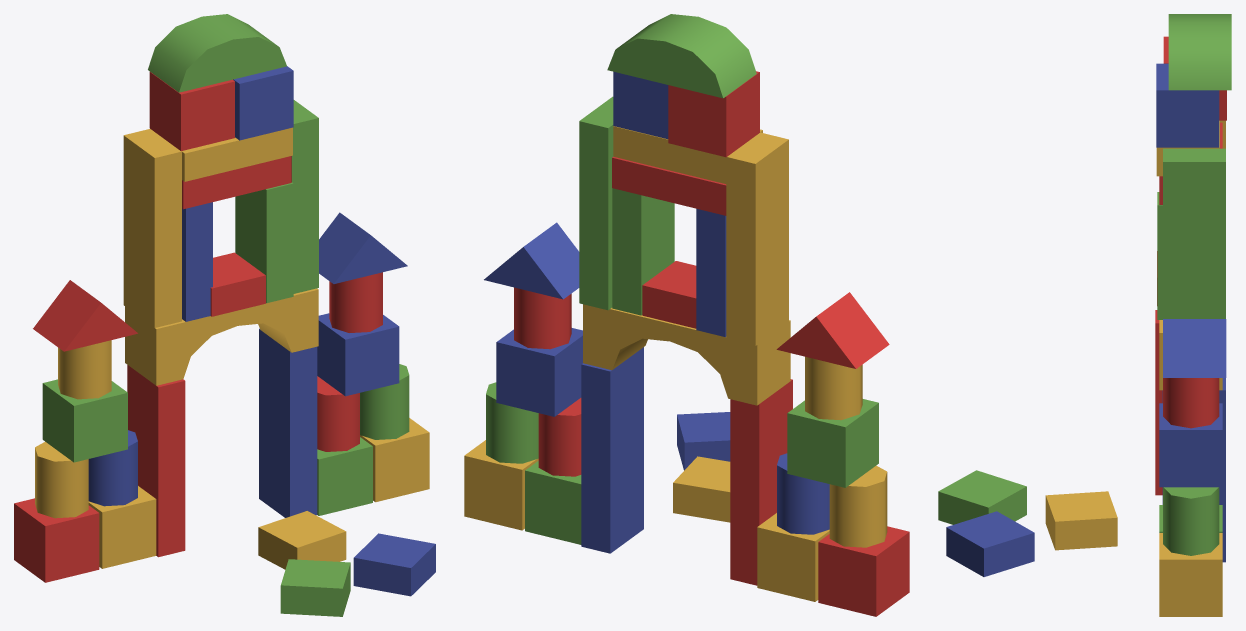
Rendered from ToyBlockCastle_01.fbx.
The picture shows the model from 3 angles, left to right: view 1: azimuth 30°, elevation 25°; view 2: azimuth 150°, elevation 25°; view 3: azimuth 270°, elevation 25°; orthographic projection. The views are drawn at different scales.
Visible parts, largest first — view 1: Rectangle_Long_03, Rectangle_Long_02, Arch_01, Rectangle_Long_01, SemiCircle_01, Cube_01, Rectangle_Middle_02, Cube_03, Cube_06, Cube_07, Rectangle_Long_04, Rectangle_Short_03 (+18 smaller); view 2: Rectangle_Long_03, Rectangle_Long_02, Arch_01, Rectangle_Long_01, SemiCircle_01, Rectangle_Long_04, Cube_01, Cube_03, Rectangle_Middle_02, Cube_06, Cube_07, Triangle_01 (+17 smaller); view 3: Rectangle_Long_04, SemiCircle_01, Rectangle_Short_03, Cube_05, Cube_06, Cube_08, Rectangle_Short_02, Triangle_02, Cylinder_05, Rectangle_Short_04, Cylinder_06, Rectangle_Long_01 (+3 smaller).
Part boxes in pixels (x1,y1,x2,y2): Rectangle_Long_03: [123, 129, 181, 327]; Rectangle_Long_02: [259, 328, 317, 517]; Arch_01: [125, 288, 318, 385]; Rectangle_Long_01: [127, 365, 185, 557]; SemiCircle_01: [148, 14, 286, 92]; Cube_01: [14, 498, 99, 582]; Rectangle_Middle_02: [235, 182, 293, 303]; Cube_03: [42, 379, 127, 462]; Cube_06: [317, 313, 399, 396]; Cube_07: [149, 72, 234, 151]; Rectangle_Long_04: [291, 100, 318, 293]; Rectangle_Short_03: [353, 533, 435, 596]; Rectangle_Long_03: [726, 132, 788, 345]; Rectangle_Long_02: [581, 347, 643, 553]; Arch_01: [583, 304, 790, 405]; Rectangle_Long_01: [730, 379, 792, 585]; SemiCircle_01: [607, 14, 756, 98]; Rectangle_Long_04: [579, 96, 613, 310]; Cube_01: [818, 526, 909, 616]; Cube_03: [787, 399, 878, 487]; Rectangle_Middle_02: [612, 188, 674, 315]; Cube_06: [496, 328, 582, 416]; Cube_07: [668, 71, 759, 157]; Triangle_01: [776, 292, 889, 368]; Rectangle_Long_04: [1163, 148, 1225, 318]; SemiCircle_01: [1168, 14, 1231, 90]; Rectangle_Short_03: [946, 511, 1034, 576]; Cube_05: [1159, 533, 1222, 616]; Cube_06: [1159, 403, 1222, 487]; Cube_08: [1156, 63, 1219, 147]; Rectangle_Short_02: [1045, 491, 1117, 550]; Triangle_02: [1163, 319, 1226, 377]; Cylinder_05: [1163, 487, 1219, 555]; Rectangle_Short_04: [938, 470, 1026, 524]; Cylinder_06: [1163, 378, 1219, 428]; Rectangle_Long_01: [1155, 310, 1162, 495].
Bounding box in the file's own units: 0.5407 × 0.6632 × 0.3535.
